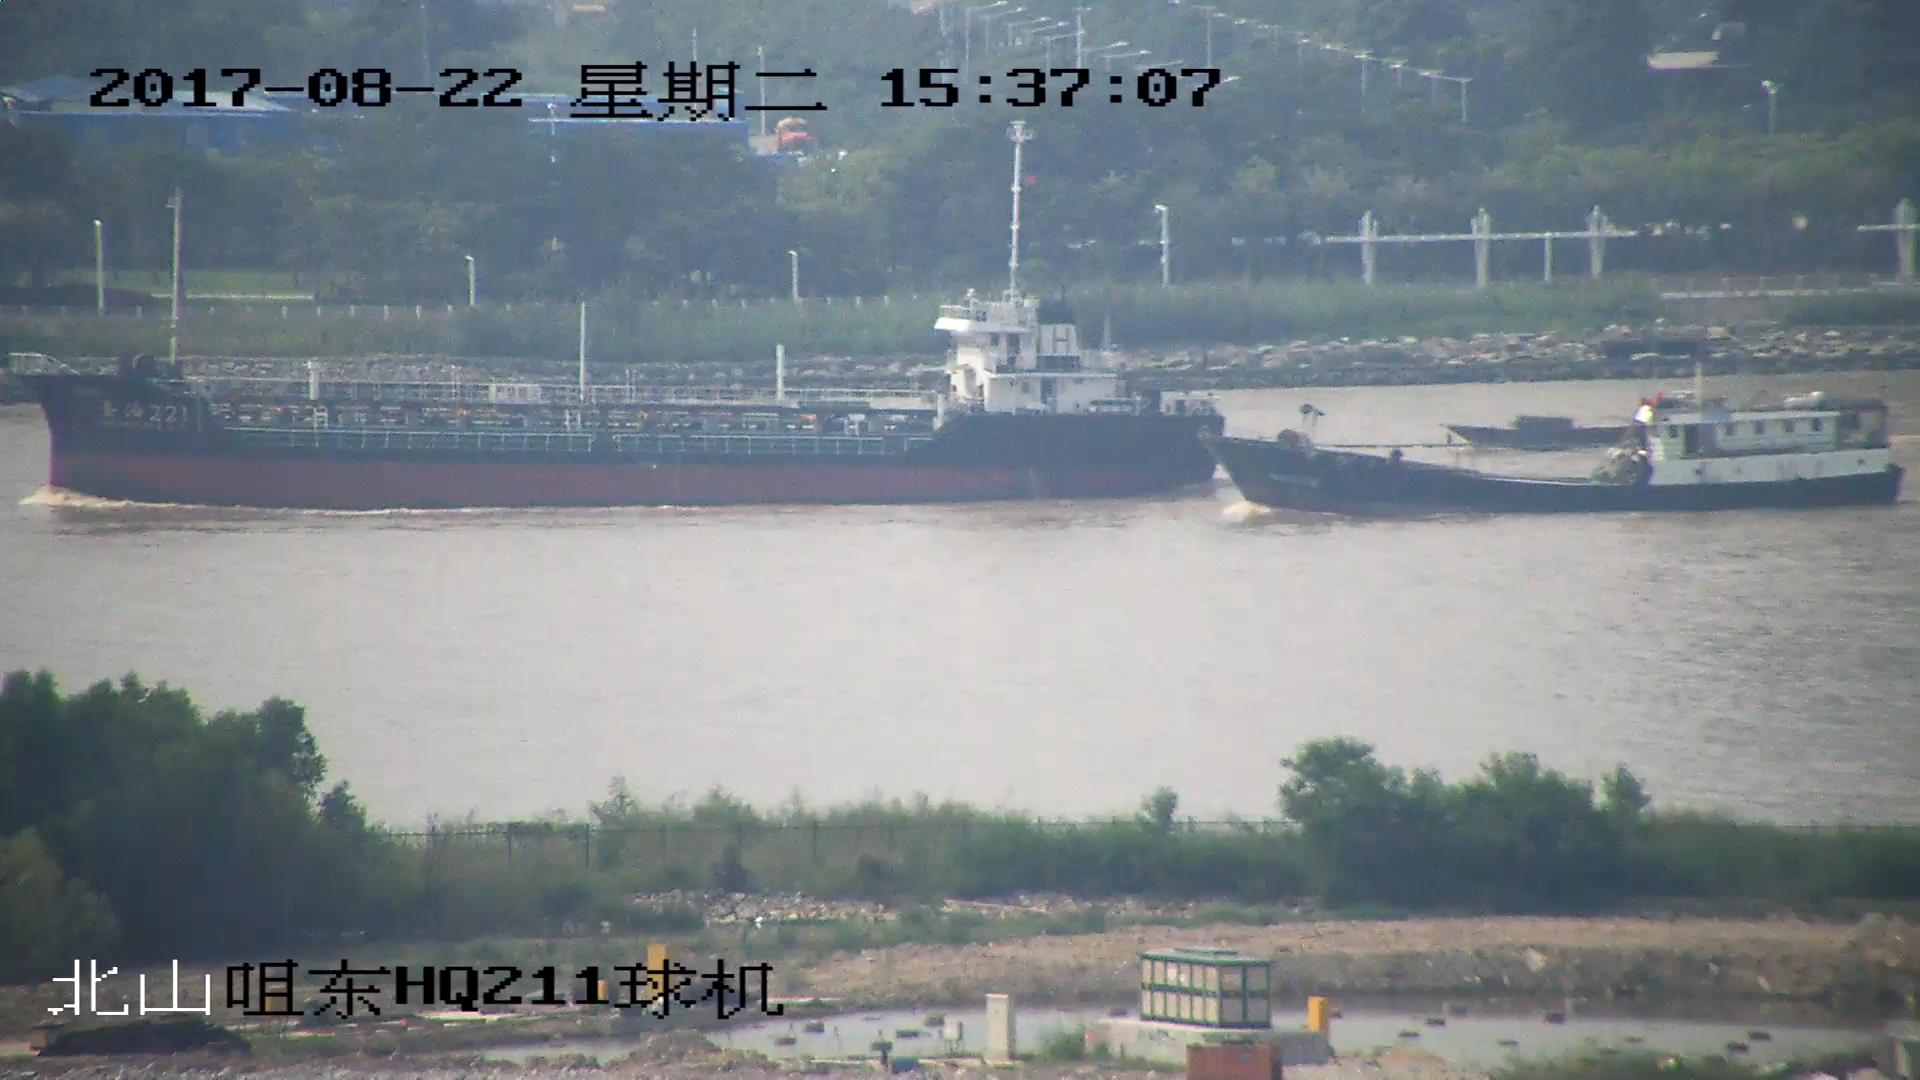fishing boat: (1201, 369, 1899, 514), (1446, 412, 1627, 452)
general cargo ship: (12, 118, 1233, 508)
